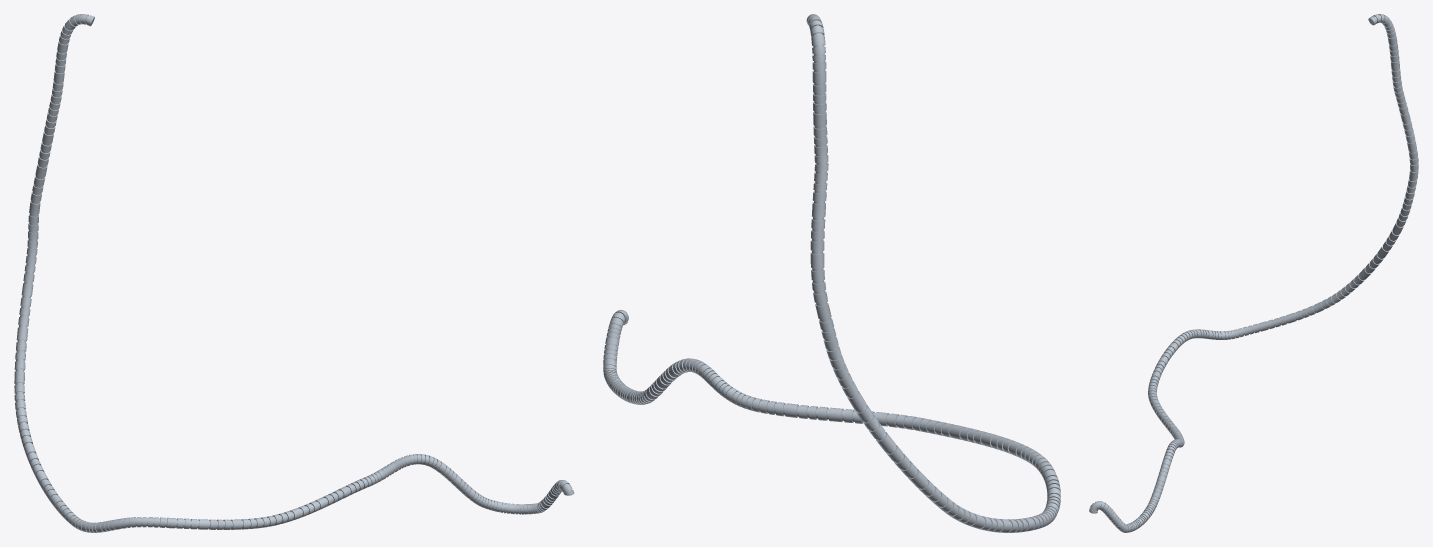
Rendered from SM_Cable_1_Splines_24.fbx.
The picture shows the model from 3 angles, left to right: view 1: azimuth 30°, elevation 25°; view 2: azimuth 150°, elevation 25°; view 3: azimuth 270°, elevation 25°; orthographic projection. The views are drawn at different scales.
Parts seen in each view (by area): view 1: SM_Cable_1_Splines_24; view 2: SM_Cable_1_Splines_24; view 3: SM_Cable_1_Splines_24.
Boxes of the visible parts, <box> form: SM_Cable_1_Splines_24: <box>14,14,574,532</box>; SM_Cable_1_Splines_24: <box>603,14,1060,532</box>; SM_Cable_1_Splines_24: <box>1089,14,1418,532</box>.
Bounding box in the file's own units: 268 × 215 × 284.
